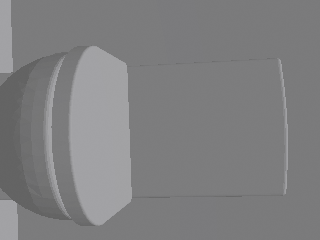lid_1: (52, 46, 131, 225)
